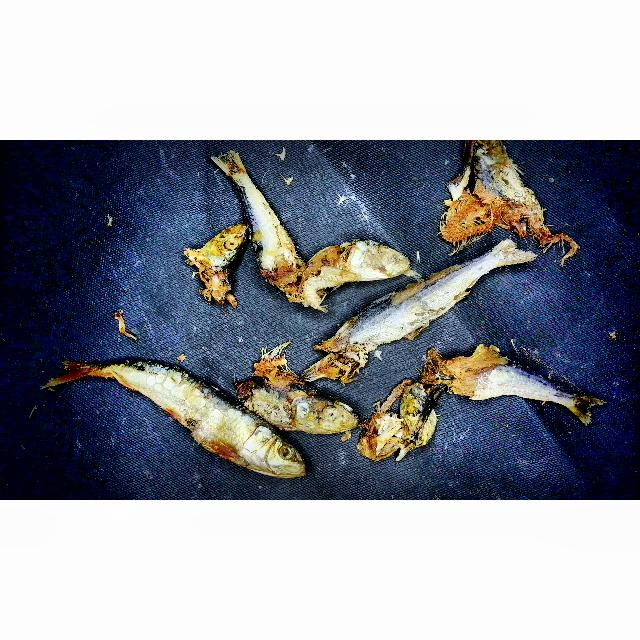Rejected_Body: (307, 265, 476, 368), (118, 355, 244, 454), (428, 340, 548, 413), (239, 189, 305, 296), (173, 220, 251, 309)
Rejected_Head: (437, 140, 531, 254), (230, 361, 360, 437), (354, 374, 445, 464), (210, 417, 317, 489), (300, 239, 415, 296)
Rejected_Tail: (28, 354, 120, 401), (544, 378, 608, 434), (474, 234, 535, 286), (206, 149, 257, 189)
